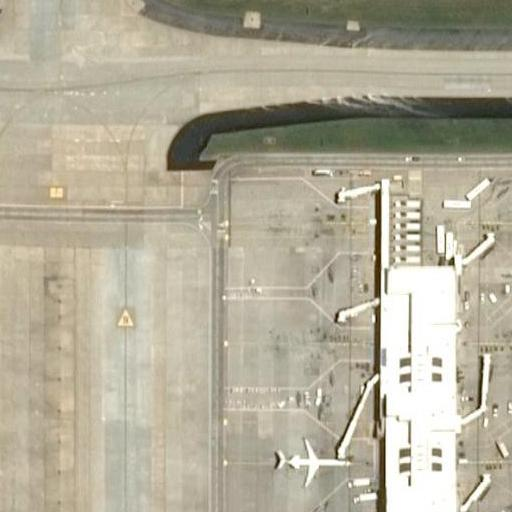Aircraft: (268, 432, 353, 490)
